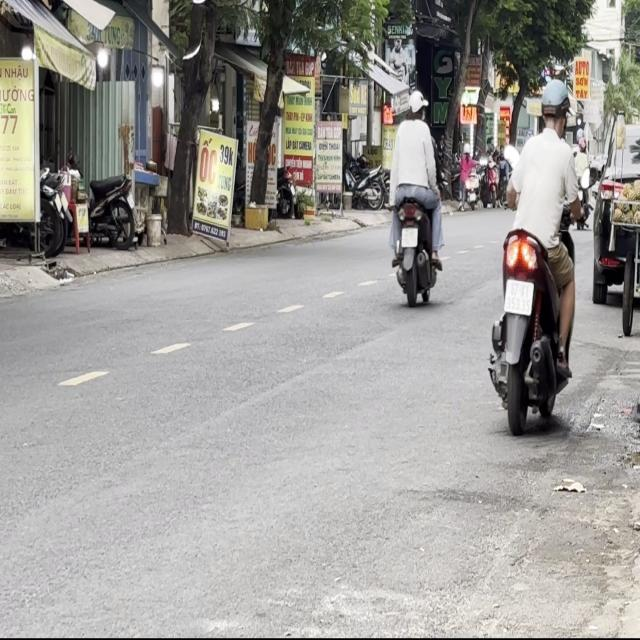helmet: (538, 76, 570, 134), (406, 89, 425, 118)
licenseplate: (488, 71, 582, 434), (385, 87, 444, 305)
nohelmet: (504, 278, 534, 316), (401, 227, 417, 246)
